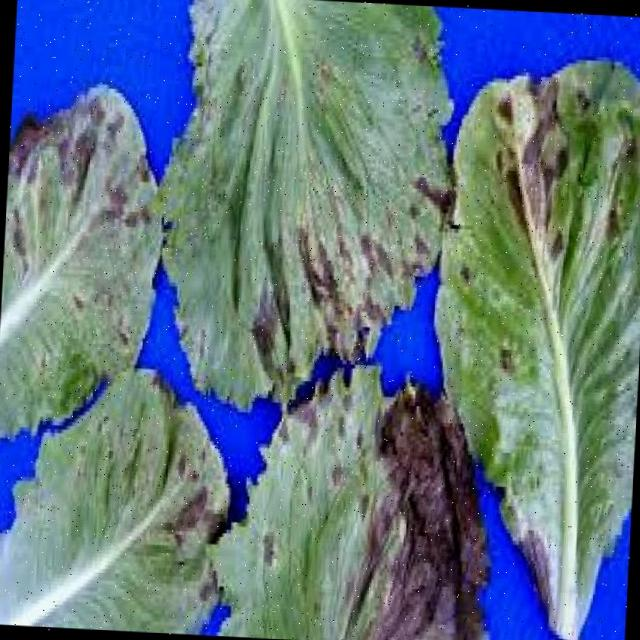Septoria_Blight: (244, 22, 417, 302), (471, 75, 640, 351), (262, 405, 459, 640)
